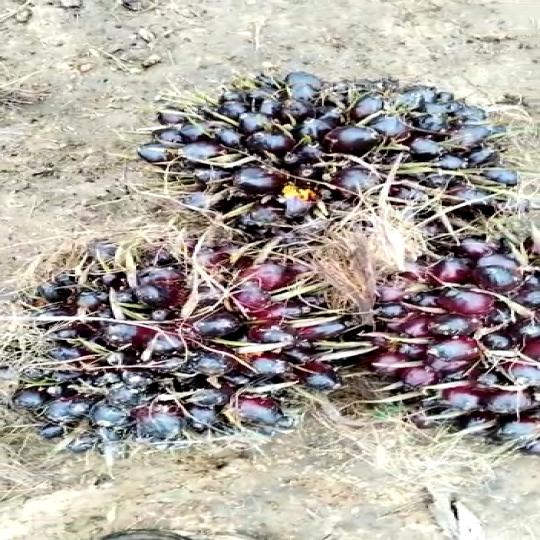mentah: (7, 222, 348, 454), (123, 63, 508, 242), (339, 224, 540, 454)
